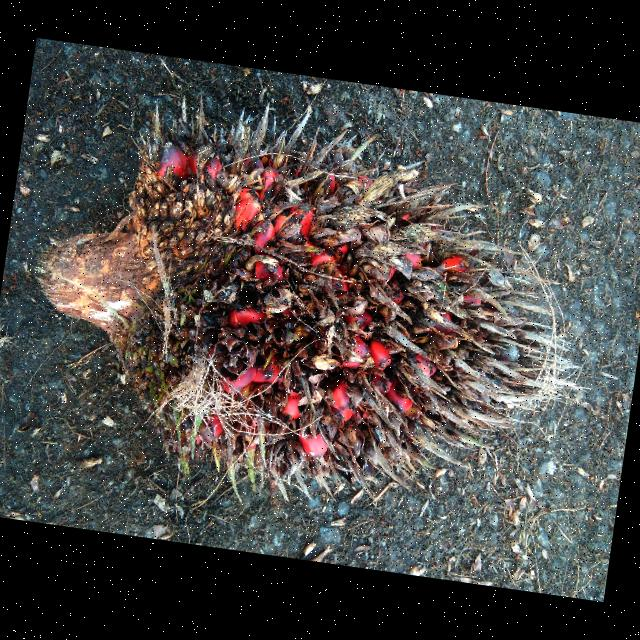Overripe: (33, 130, 559, 490)
